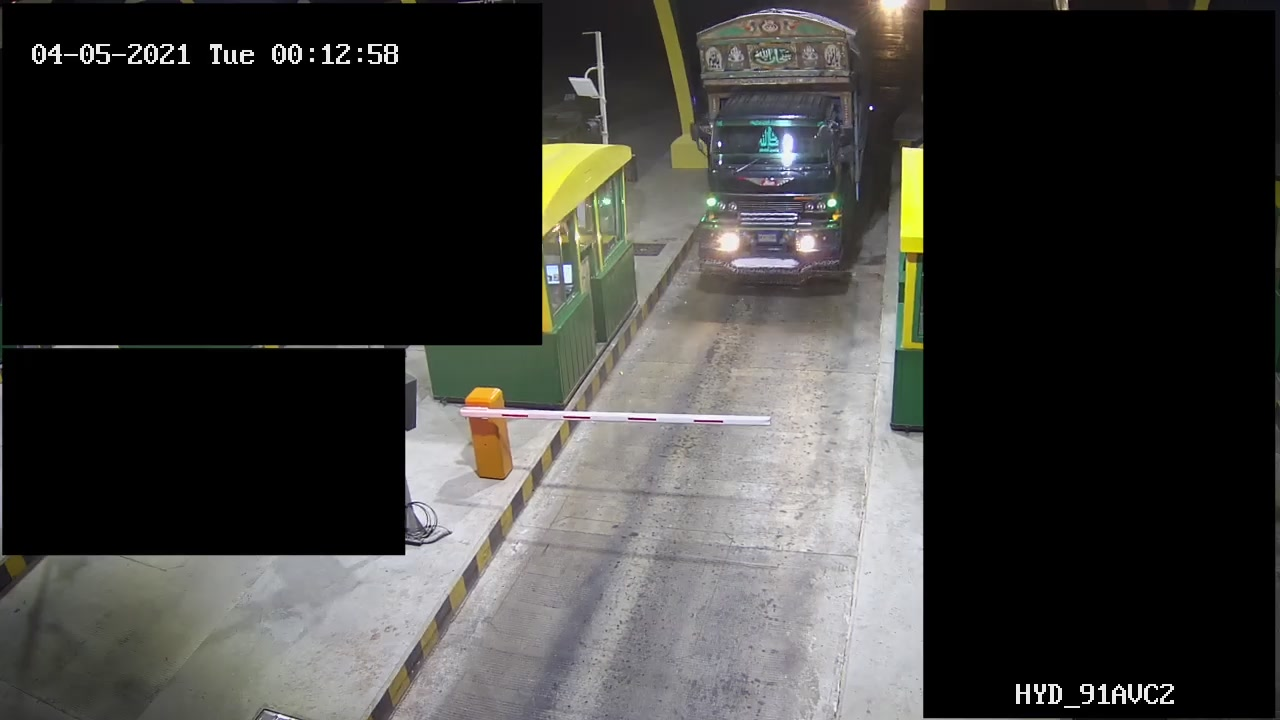F5: (683, 1, 887, 302)
